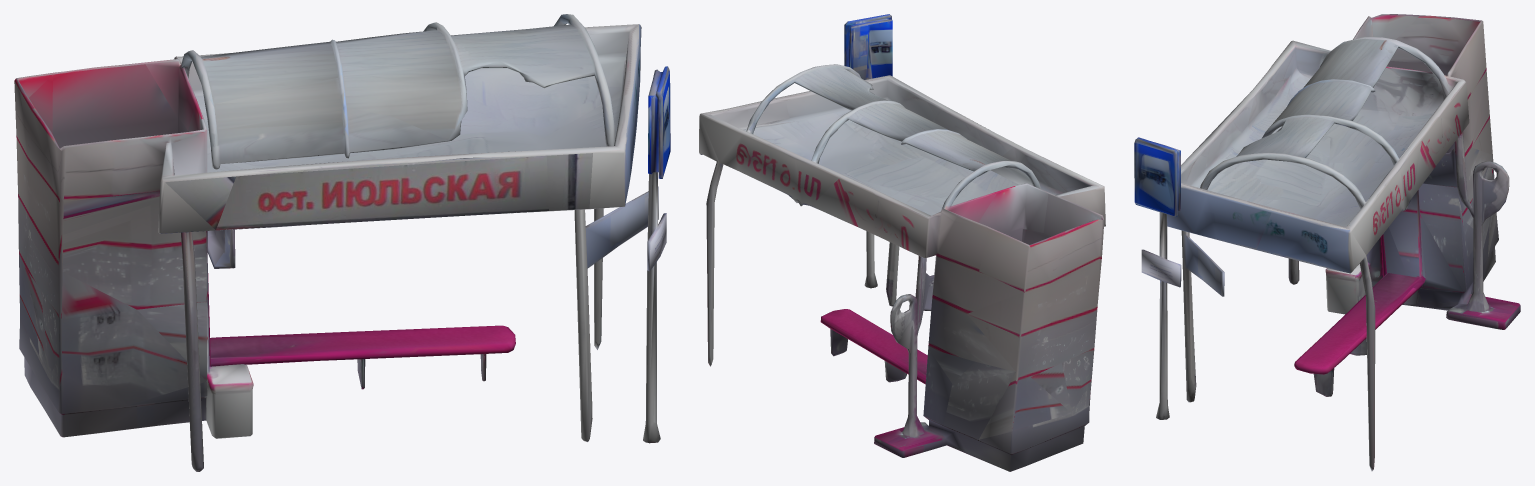
File: остановка.fbx
The picture shows the model from 3 angles, left to right: view 1: azimuth 30°, elevation 25°; view 2: azimuth 150°, elevation 25°; view 3: azimuth 270°, elevation 25°; orthographic projection. The views are drawn at different scales.
Visible parts, largest first — view 1: texture_pbr_v128; view 2: texture_pbr_v128; view 3: texture_pbr_v128.
Part boxes in pixels (x1=…): texture_pbr_v128: x1=14, y1=14, x2=670, y2=471; texture_pbr_v128: x1=699, y1=14, x2=1105, y2=471; texture_pbr_v128: x1=1134, y1=14, x2=1520, y2=471.
Bounding box in the file's own units: 91.06 × 60.25 × 70.27.
2 materials, 2 textured.
